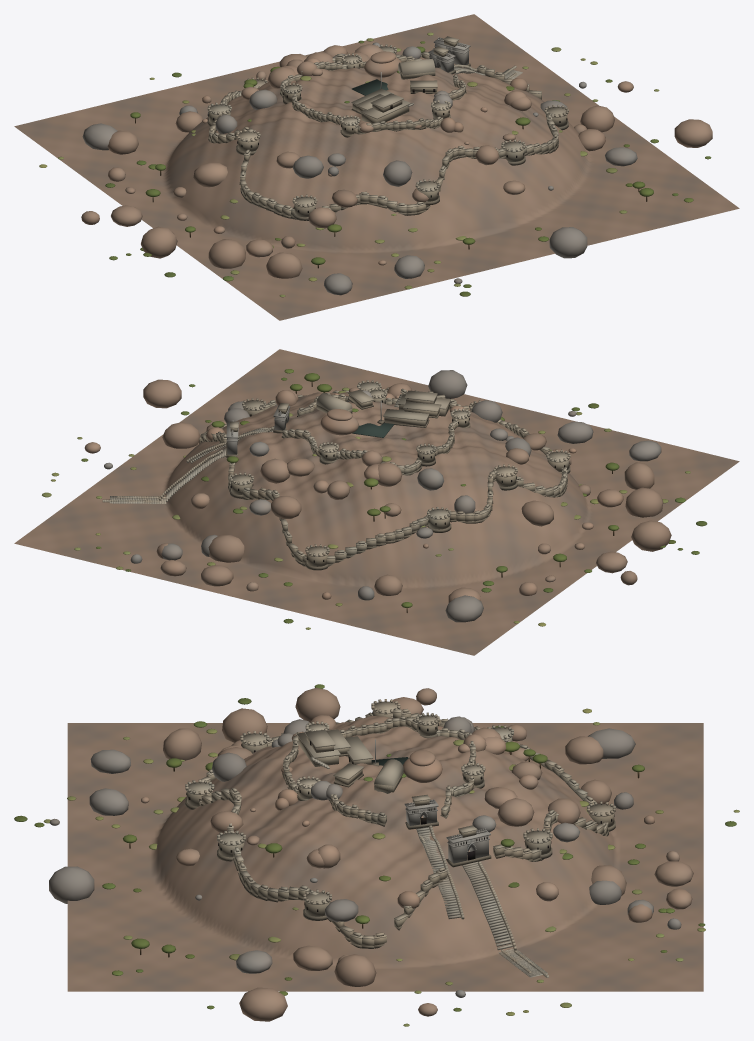
Rendered from ballari-fort3.glb.
The picture shows the model from 3 angles, top to bottom: view 1: azimuth 30°, elevation 25°; view 2: azimuth 150°, elevation 25°; view 3: azimuth 270°, elevation 25°; orthographic projection. The views are drawn at different scales.
Visible parts, largest first — view 1: hill_terrain, fort_AE927C, fort_B6AA95, fort_9B9389, fort_A39680, fort_6E7D42, fort_7E7362, fort_92965C, fort_938E85; view 2: hill_terrain, fort_AE927C, fort_B6AA95, fort_9B9389, fort_A39680, fort_6E7D42, fort_7E7362, fort_92965C, fort_B2A998; view 3: hill_terrain, fort_AE927C, fort_B6AA95, fort_9B9389, fort_A39680, fort_B2A998, fort_6E7D42, fort_7E7362, fort_92965C, fort_938E85, fort_A8A399.
Boxes of the visible parts, x1,y1,x2,y2 form: hill_terrain: (14,14,739,320); fort_AE927C: (81,44,712,278); fort_B6AA95: (207,36,568,211); fort_9B9389: (82,42,637,295); fort_A39680: (209,40,567,217); fort_6E7D42: (105,40,711,296); fort_7E7362: (207,63,568,220); fort_92965C: (39,32,659,297); fort_938E85: (429,43,468,72); hill_terrain: (14,349,739,655); fort_AE927C: (84,379,671,602); fort_B6AA95: (102,380,570,558); fort_9B9389: (104,370,661,622); fort_A39680: (199,393,569,566); fort_6E7D42: (81,369,707,623); fort_7E7362: (200,398,570,570); fort_92965C: (42,387,690,629); fort_B2A998: (109,394,402,503); hill_terrain: (67,716,703,991); fort_AE927C: (141,687,693,1021); fort_B6AA95: (185,699,615,977); fort_9B9389: (49,716,681,997); fort_A39680: (187,711,614,946); fort_B2A998: (310,756,547,977); fort_6E7D42: (14,684,736,1011); fort_7E7362: (185,725,615,948); fort_92965C: (43,708,739,1026); fort_938E85: (406,807,488,863); fort_A8A399: (375,739,490,852).
Bounding box in the file's own units: 484 × 84.66 × 434.
